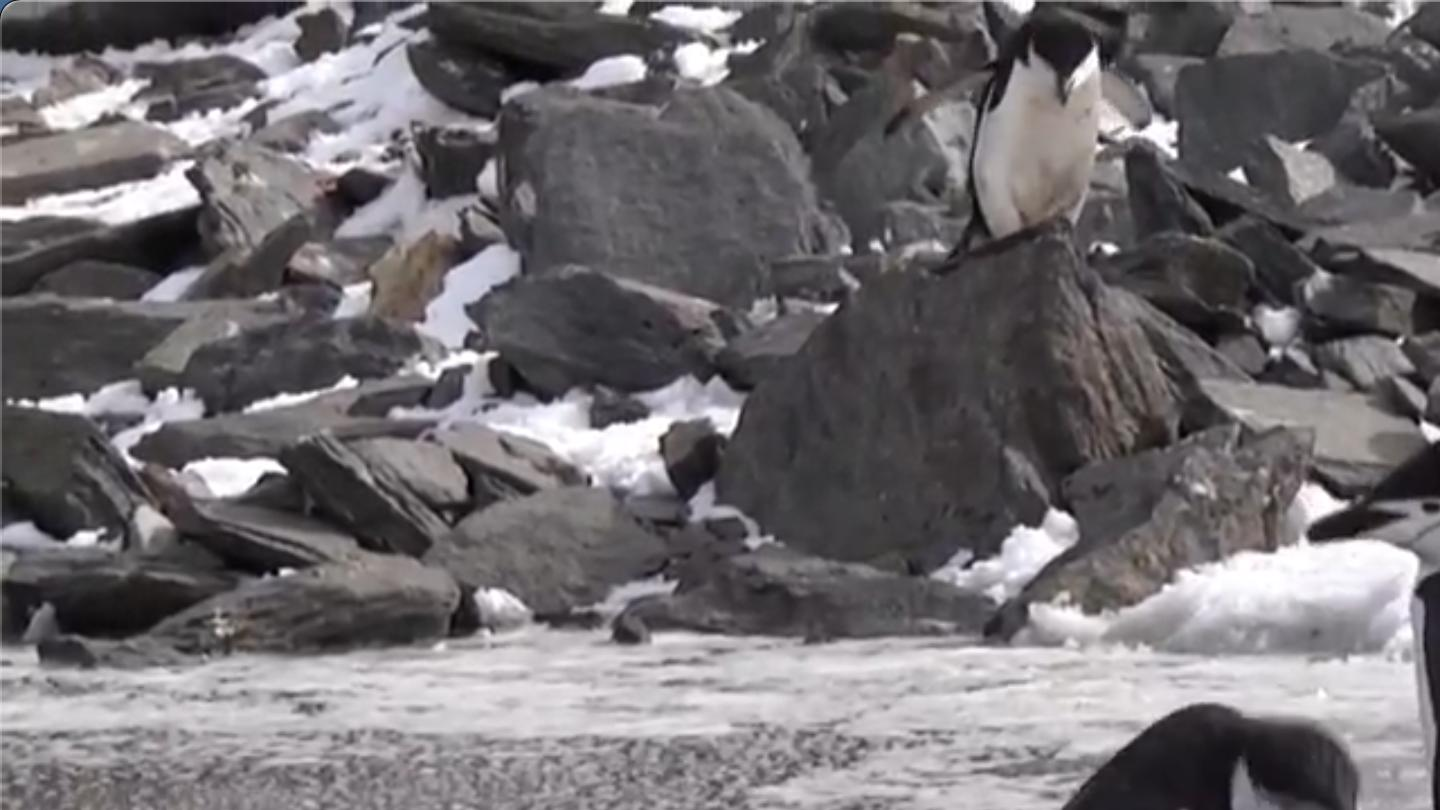Chinstrap Penguin: (873, 676, 1403, 810), (1286, 417, 1440, 810), (960, 7, 1143, 277)
